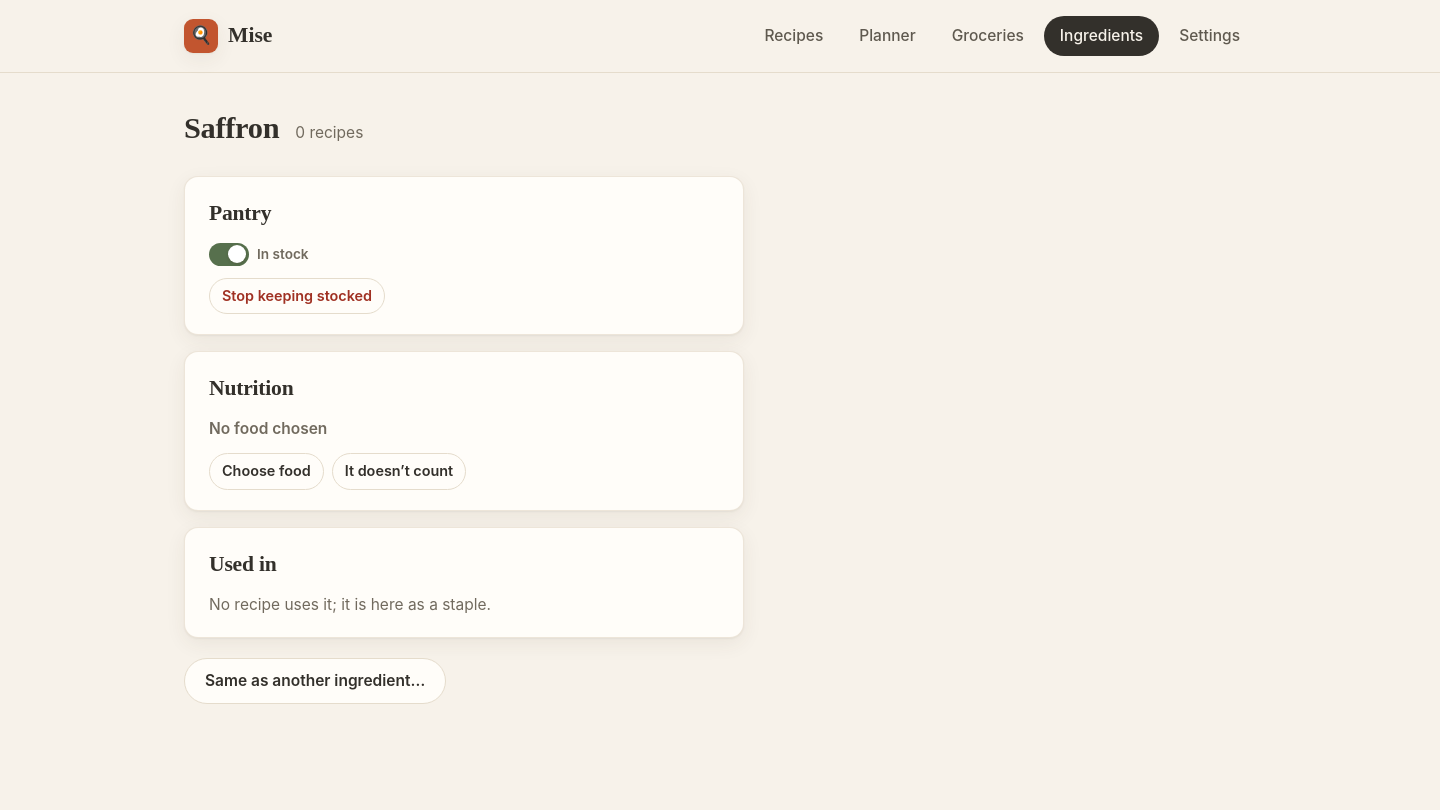
it: IngredientPage › goes back to the staples when the staple was all there was of it
The width and height of the screenshot is (1440, 810).
Expected: the heading "Saffron" is shown, 184,105 -> 279,152
Click the button "Stop keeping stocked".
click(297, 296)  # box 209,278 -> 385,314
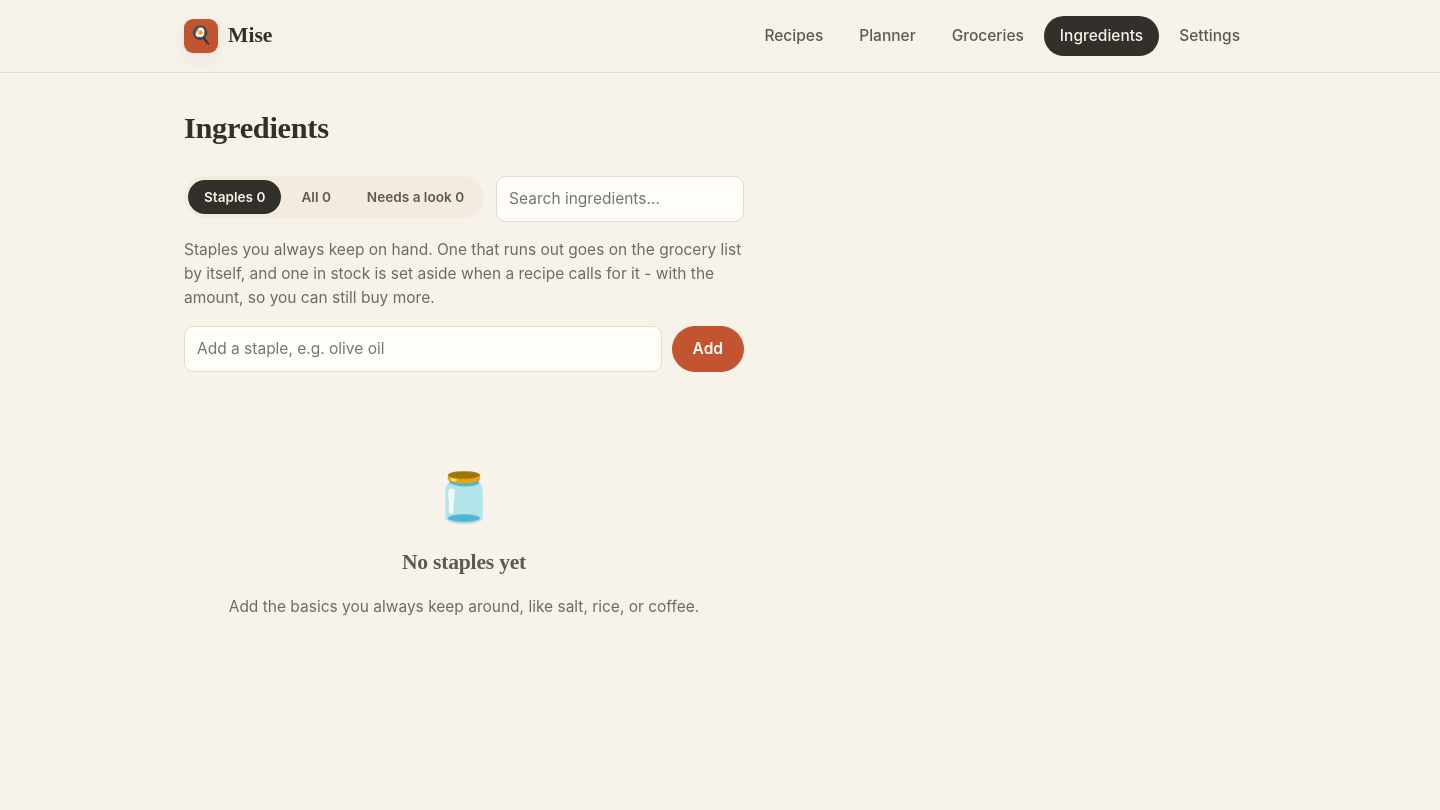
Now the heading "Ingredients" is shown, box 184,105 -> 329,152
